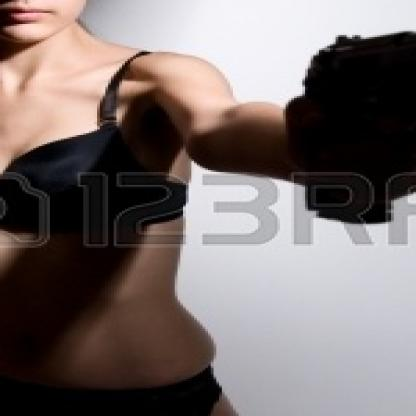gun: (291, 0, 414, 228)
